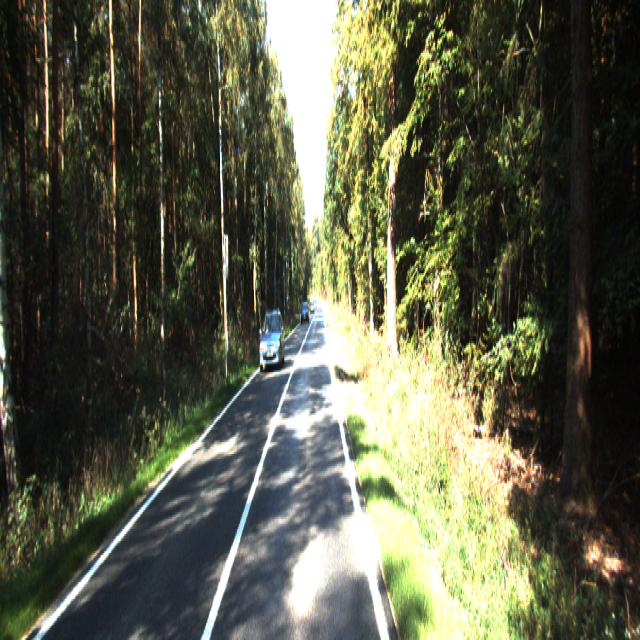Car: (258, 306, 286, 373)
